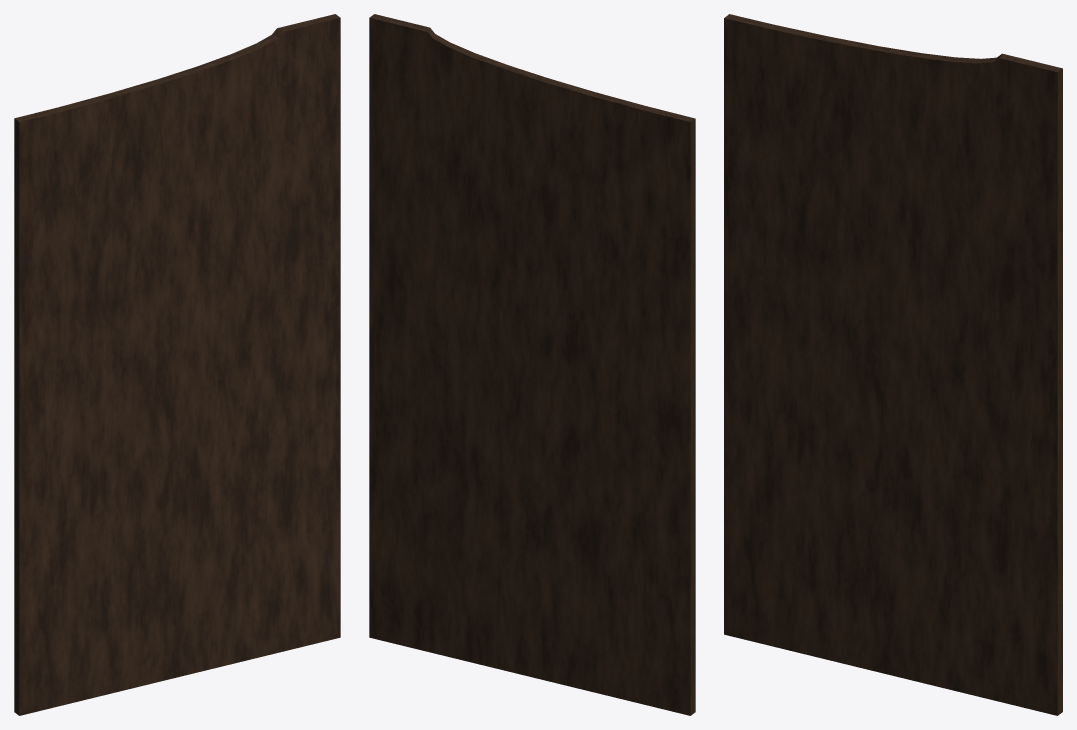
The model's file is door_l.fbx.
The picture shows the model from 3 angles, left to right: view 1: azimuth 30°, elevation 25°; view 2: azimuth 150°, elevation 25°; view 3: azimuth 330°, elevation 25°; orthographic projection. The views are drawn at different scales.
Parts seen in each view (by area): view 1: door_l_Baked; view 2: door_l_Baked; view 3: door_l_Baked.
Boxes of the visible parts, <box> form: door_l_Baked: <box>14,14,340,715</box>; door_l_Baked: <box>369,14,695,715</box>; door_l_Baked: <box>724,14,1062,715</box>.
Size of the model in its own units: 32.45 by 59.85 by 0.9.
Materials: 1 (1 with a texture image).
